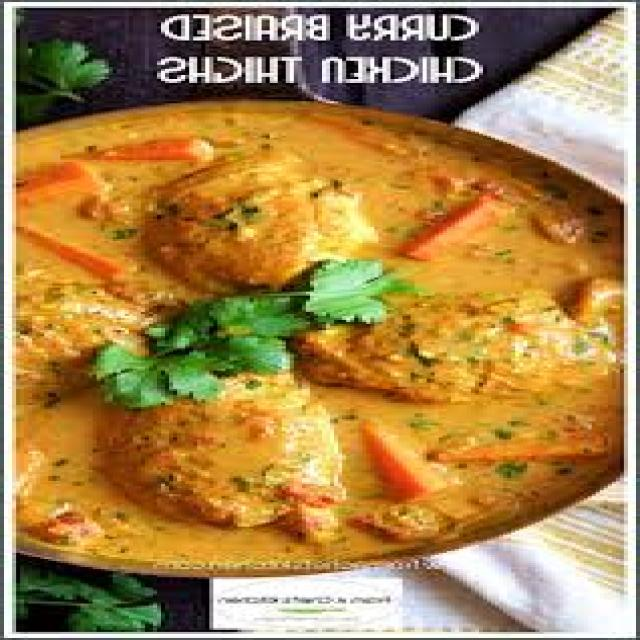Chicken Curry: (0, 128, 612, 553)
